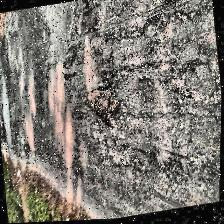pothole: (78, 74, 126, 132)
